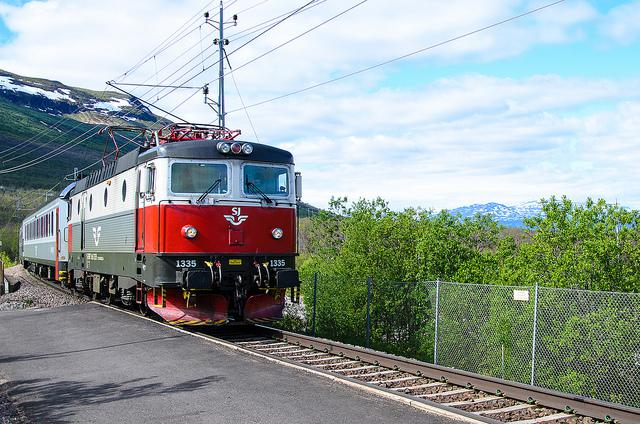Train: (19, 124, 300, 290)
